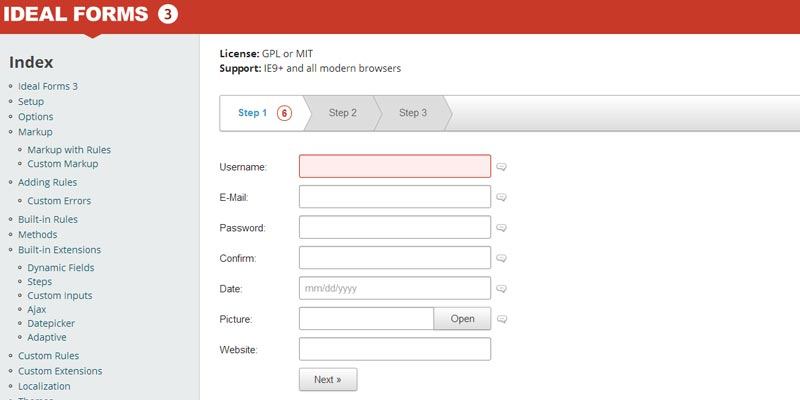_form_: (154, 1, 570, 400)
button: (297, 367, 358, 391), (435, 306, 491, 331)
field: (296, 151, 492, 180), (295, 335, 493, 363), (296, 273, 493, 301), (296, 213, 490, 240), (295, 245, 493, 270), (296, 184, 492, 209), (296, 306, 434, 330)
field_with_label: (220, 149, 494, 181), (219, 272, 494, 303), (219, 334, 494, 365), (220, 211, 492, 241), (218, 244, 494, 273), (221, 182, 493, 210), (218, 303, 435, 332)
